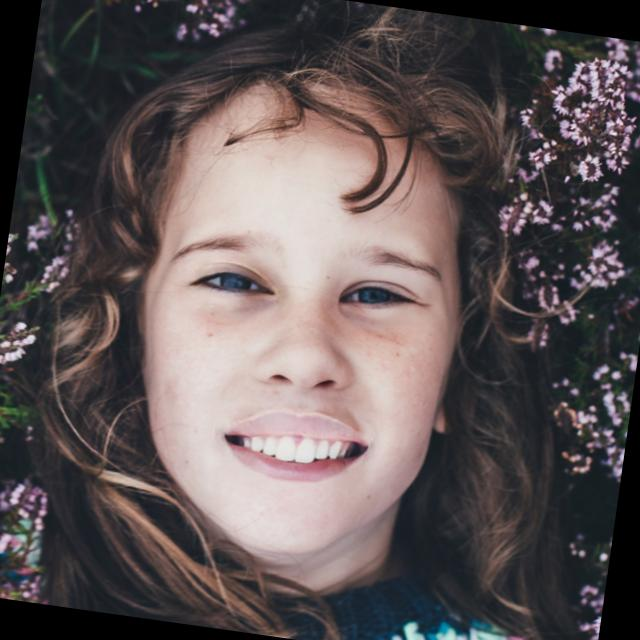face: (99, 76, 507, 577)
